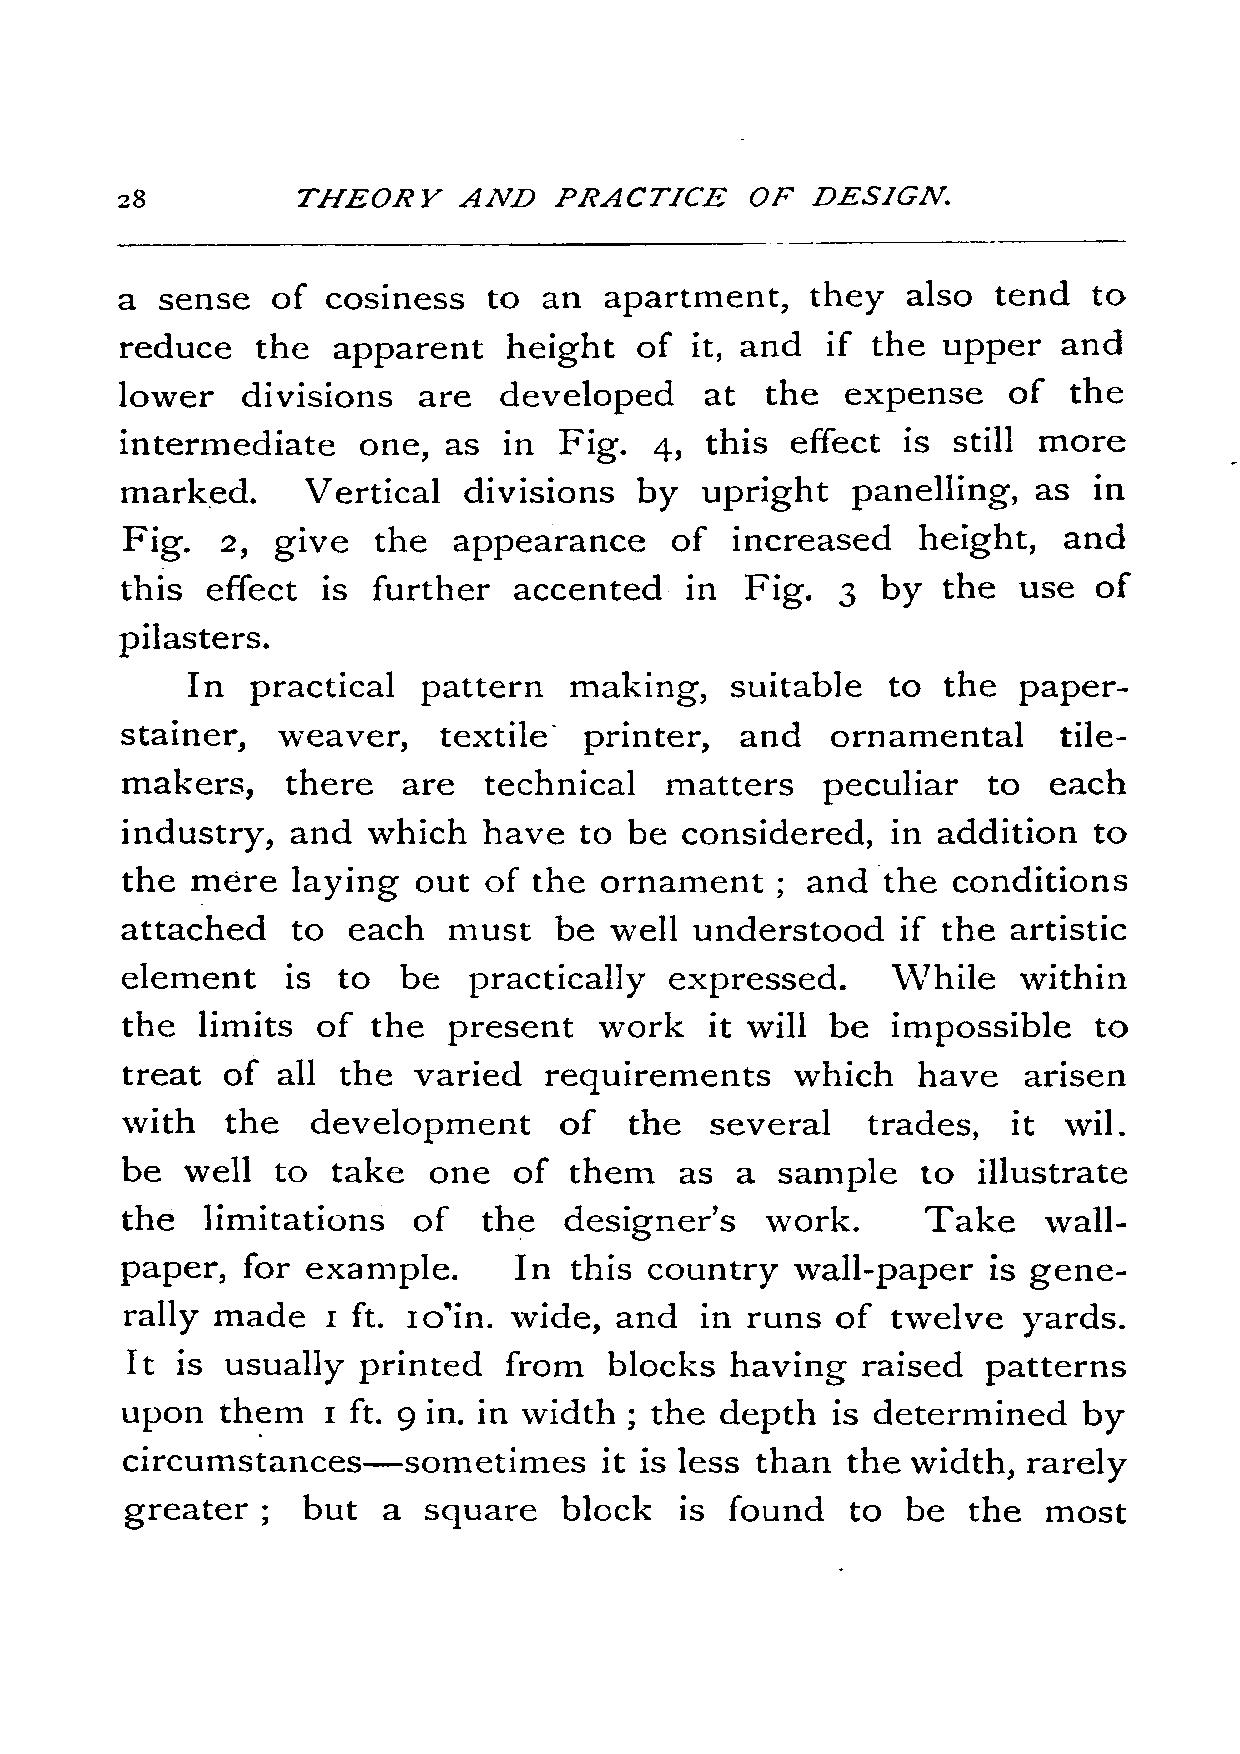content: (111, 279, 1131, 1530)
content_chapter: (289, 183, 957, 209)
content_pagenumber: (117, 185, 148, 208)
